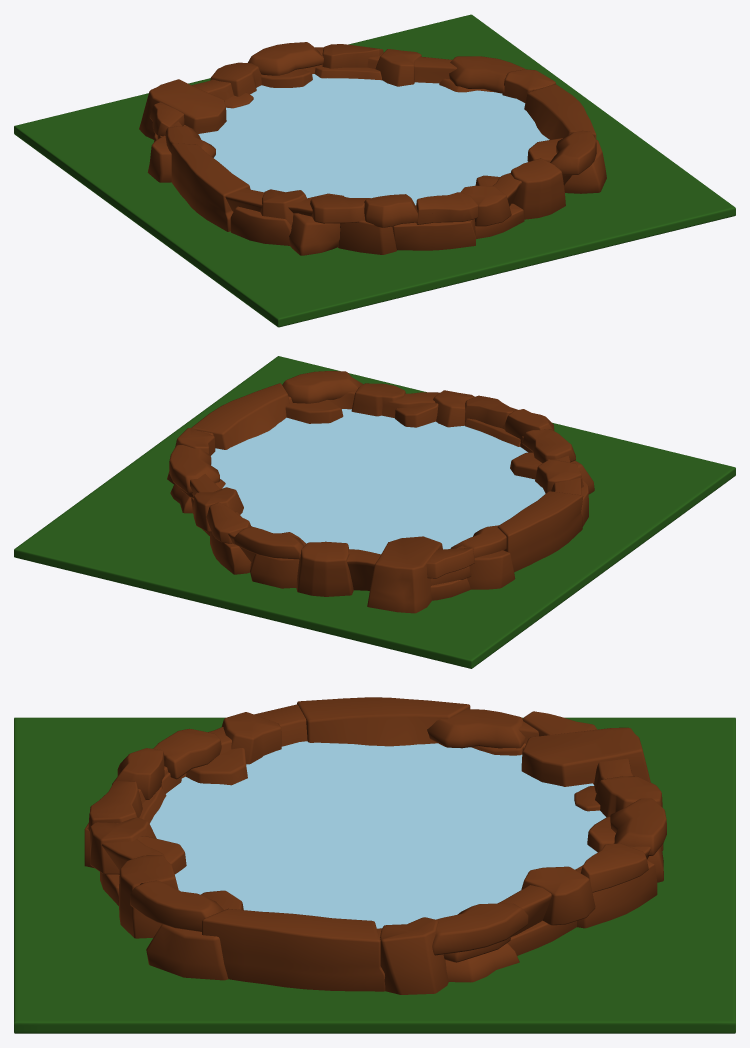
The model's file is outdoor_pond_1276.obj.
3 renders of one model, top to bottom at view 1: azimuth 30°, elevation 25°; view 2: azimuth 150°, elevation 25°; view 3: azimuth 270°, elevation 25°, orthographic. The views are drawn at different scales.
Visible parts, largest first — view 1: outdoor_pond_1276_grass, outdoor_pond_1276_rock, outdoor_pond_1276_water; view 2: outdoor_pond_1276_grass, outdoor_pond_1276_rock, outdoor_pond_1276_water; view 3: outdoor_pond_1276_grass, outdoor_pond_1276_rock, outdoor_pond_1276_water.
Boxes of the visible parts, x1=… form: outdoor_pond_1276_grass: x1=14, y1=14, x2=735, y2=327; outdoor_pond_1276_rock: x1=139, y1=42, x2=606, y2=255; outdoor_pond_1276_water: x1=198, y1=74, x2=549, y2=205; outdoor_pond_1276_grass: x1=14, y1=356, x2=735, y2=668; outdoor_pond_1276_rock: x1=167, y1=371, x2=594, y2=613; outdoor_pond_1276_water: x1=211, y1=409, x2=545, y2=554; outdoor_pond_1276_grass: x1=14, y1=717, x2=735, y2=1033; outdoor_pond_1276_rock: x1=84, y1=697, x2=666, y2=994; outdoor_pond_1276_water: x1=150, y1=741, x2=606, y2=928.
Size of the model in its own units: 17.78 by 2.02 by 17.78.
Materials: 4 (4 with a texture image).
